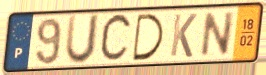9: (33, 16, 64, 67)
C: (98, 11, 134, 66)
D: (131, 12, 166, 63)
K: (168, 12, 199, 59)
N: (198, 10, 237, 59)
U: (63, 13, 102, 67)
